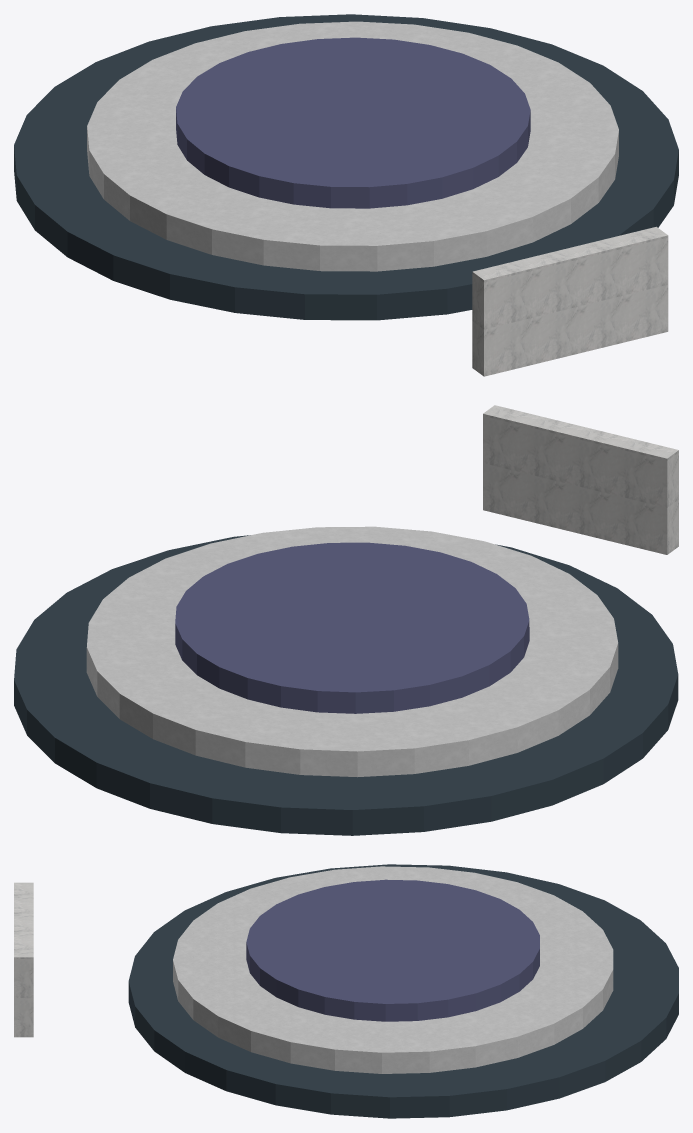
File: Center Statue Stand.fbx
The picture shows the model from 3 angles, top to bottom: view 1: azimuth 30°, elevation 25°; view 2: azimuth 150°, elevation 25°; view 3: azimuth 270°, elevation 25°; orthographic projection. The views are drawn at different scales.
Parts seen in each view (by area): view 1: 01sculpture Mesh (1), B1_ground Mesh (1), black Mesh (1), Decoration_candle Mesh (1); view 2: 01sculpture Mesh (1), B1_ground Mesh (1), black Mesh (1), Decoration_candle Mesh (1); view 3: 01sculpture Mesh (1), B1_ground Mesh (1), black Mesh (1), Decoration_candle Mesh (1).
Part boxes in pixels (bbox=[...]): 01sculpture Mesh (1): bbox=[87, 21, 618, 271]; B1_ground Mesh (1): bbox=[14, 14, 678, 320]; black Mesh (1): bbox=[176, 37, 530, 208]; Decoration_candle Mesh (1): bbox=[472, 226, 668, 376]; 01sculpture Mesh (1): bbox=[86, 526, 618, 777]; B1_ground Mesh (1): bbox=[14, 535, 678, 835]; black Mesh (1): bbox=[175, 542, 529, 713]; Decoration_candle Mesh (1): bbox=[483, 405, 678, 554]; 01sculpture Mesh (1): bbox=[173, 866, 613, 1073]; B1_ground Mesh (1): bbox=[128, 864, 678, 1118]; black Mesh (1): bbox=[246, 879, 539, 1021]; Decoration_candle Mesh (1): bbox=[14, 882, 33, 1037].
Size of the model in its own units: 14.06 by 2.25 by 16.96.
